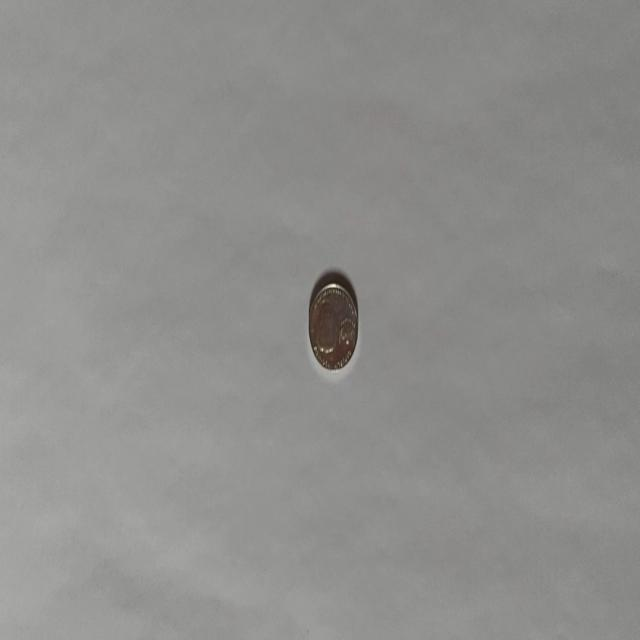seratus rupiah: (307, 280, 358, 372)
